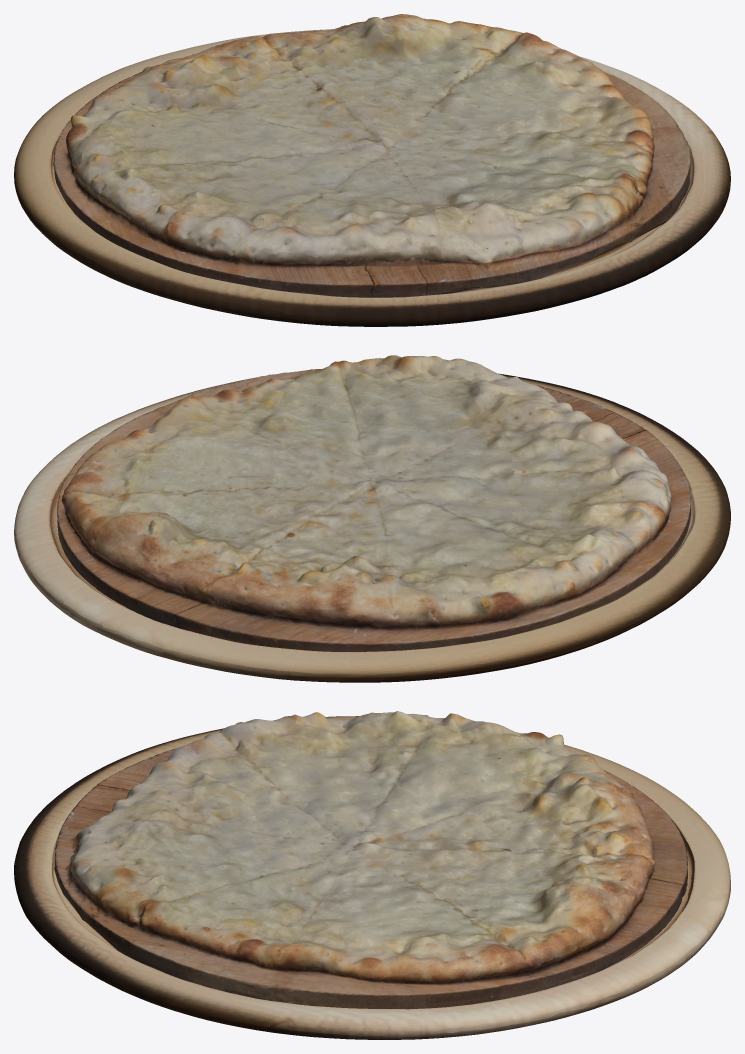
Rendered from lahmajoon.sefid.glb.
3 renders of one model, top to bottom at view 1: azimuth 30°, elevation 25°; view 2: azimuth 150°, elevation 25°; view 3: azimuth 270°, elevation 25°, orthographic.
Parts seen in each view (by area): view 1: /Root/Scenes/Scene/Object_47/Object_52/Submesh_0, /Root/Scenes/Scene/Object_47/Object_48/Object_49/Submesh_0; view 2: /Root/Scenes/Scene/Object_47/Object_52/Submesh_0, /Root/Scenes/Scene/Object_47/Object_48/Object_49/Submesh_0; view 3: /Root/Scenes/Scene/Object_47/Object_52/Submesh_0, /Root/Scenes/Scene/Object_47/Object_48/Object_49/Submesh_0.
Part boxes in pixels (<box>): /Root/Scenes/Scene/Object_47/Object_52/Submesh_0: <box>53,14,690,297</box>; /Root/Scenes/Scene/Object_47/Object_48/Object_49/Submesh_0: <box>14,29,730,326</box>; /Root/Scenes/Scene/Object_47/Object_52/Submesh_0: <box>57,355,690,651</box>; /Root/Scenes/Scene/Object_47/Object_48/Object_49/Submesh_0: <box>14,373,730,682</box>; /Root/Scenes/Scene/Object_47/Object_52/Submesh_0: <box>54,711,688,1009</box>; /Root/Scenes/Scene/Object_47/Object_48/Object_49/Submesh_0: <box>14,716,730,1039</box>.
Size of the model in its own units: 0.3668 by 0.0418 by 0.3666.
2 materials, 2 textured.
